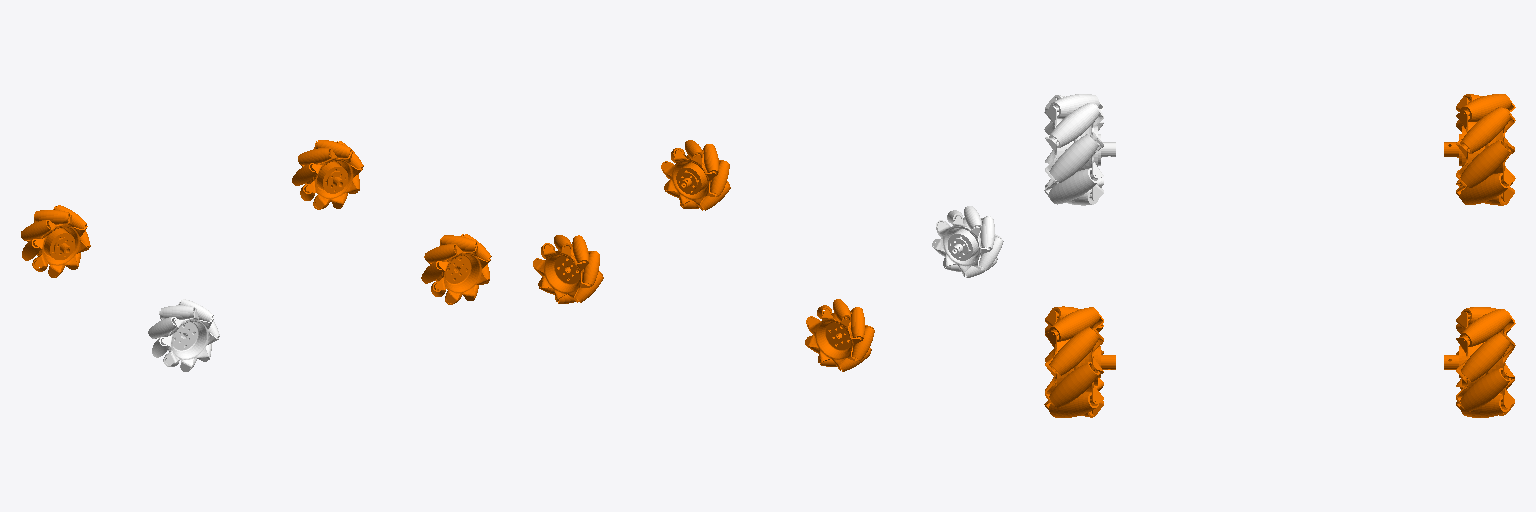
robot.urdf — mecanum_car_model:
<?xml version="1.0" encoding="utf-8"?>
<!-- This URDF was automatically created by SolidWorks to URDF Exporter! Originally created by Stephen Brawner (brawner@gmail.com)
     Commit Version: 1.6.1-15-g882169e-dirty  Build Version: 1.6.9772.27582
     For more information, please see http://wiki.ros.org/sw_urdf_exporter -->
<robot
  name="mecanum_car_model">
  <link
    name="cad_base_link">
    <inertial>
      <origin
        xyz="-0.00617548796968703 2.14769852919378E-07 0.0309079670235533"
        rpy="0 0 0" />
      <mass
        value="0.87462862212344" />
      <inertia
        ixx="0.00121174902969862"
        ixy="-1.37532960808209E-09"
        ixz="7.51707146549115E-08"
        iyy="0.00150200636211398"
        iyz="-1.90825620386568E-09"
        izz="0.00262520240536681" />
    </inertial>
    <visual>
      <origin
        xyz="0 0 0"
        rpy="0 0 0" />
      <geometry>
        <mesh
          filename="package://mecanum_car_model/meshes/base_link.STL" />
      </geometry>
      <material
        name="">
        <color
          rgba="0.752941176470588 0.752941176470588 0.752941176470588 1" />
      </material>
    </visual>
    <collision>
      <origin
        xyz="0 0 0"
        rpy="0 0 0" />
      <geometry>
        <mesh
          filename="package://mecanum_car_model/meshes/base_link.STL" />
      </geometry>
    </collision>
  </link>
  <link
    name="Link1">
    <inertial>
      <origin
        xyz="-1.88014599916686E-07 -0.00203296193576138 9.78207196355996E-08"
        rpy="0 0 0" />
      <mass
        value="0.056517377222027" />
      <inertia
        ixx="6.62770031857577E-06"
        ixy="-7.11572299839219E-12"
        ixz="6.25142269994061E-11"
        iyy="8.36947024585629E-06"
        iyz="1.6261553751241E-11"
        izz="6.62775492771518E-06" />
    </inertial>
    <visual>
      <origin
        xyz="0 0 0"
        rpy="0 0 0" />
      <geometry>
        <mesh
          filename="package://mecanum_car_model/meshes/Link1.STL" />
      </geometry>
      <material
        name="">
        <color
          rgba="1 0.501960784313725 0 1" />
      </material>
    </visual>
    <collision>
      <origin
        xyz="0 0 0"
        rpy="0 0 0" />
      <geometry>
        <mesh
          filename="package://mecanum_car_model/meshes/Link1.STL" />
      </geometry>
    </collision>
  </link>
  <joint
    name="wheel_back_left"
    type="continuous">
    <origin
      xyz="0.16537 -0.1402 0.016148"
      rpy="-3.1416 0.10332 0" />
    <parent
      link="cad_base_link" />
    <child
      link="Link1" />
    <axis
      xyz="0 1 0" />
  </joint>
  <link
    name="Link2">
    <inertial>
      <origin
        xyz="-1.88016380693601E-07 -0.00203296194037358 9.78170021370683E-08"
        rpy="0 0 0" />
      <mass
        value="0.0565173772218734" />
      <inertia
        ixx="6.62770031763641E-06"
        ixy="-7.11538727292526E-12"
        ixz="6.25141790106486E-11"
        iyy="8.36947024585973E-06"
        iyz="1.62614903065577E-11"
        izz="6.6277549286727E-06" />
    </inertial>
    <visual>
      <origin
        xyz="0 0 0"
        rpy="0 0 0" />
      <geometry>
        <mesh
          filename="package://mecanum_car_model/meshes/Link2.STL" />
      </geometry>
      <material
        name="">
        <color
          rgba="1 0.501960784313725 0 1" />
      </material>
    </visual>
    <collision>
      <origin
        xyz="0 0 0"
        rpy="0 0 0" />
      <geometry>
        <mesh
          filename="package://mecanum_car_model/meshes/Link2.STL" />
      </geometry>
    </collision>
  </link>
  <joint
    name="wheel_back_right"
    type="continuous">
    <origin
      xyz="0.16537 0.1402 0.016148"
      rpy="3.1416 -0.2389 -3.1416" />
    <parent
      link="cad_base_link" />
    <child
      link="Link2" />
    <axis
      xyz="0 1 0" />
  </joint>
  <link
    name="Link3">
    <inertial>
      <origin
        xyz="-1.88014504493017E-07 -0.00203296154348653 9.7821514832841E-08"
        rpy="0 0 0" />
      <mass
        value="0.0565173772360903" />
      <inertia
        ixx="6.62770031533193E-06"
        ixy="-7.11616974981988E-12"
        ixz="6.25122984420751E-11"
        iyy="8.36947024630998E-06"
        iyz="1.62609436783801E-11"
        izz="6.62775492351999E-06" />
    </inertial>
    <visual>
      <origin
        xyz="0 0 0"
        rpy="0 0 0" />
      <geometry>
        <mesh
          filename="package://mecanum_car_model/meshes/Link3.STL" />
      </geometry>
      <material
        name="">
        <color
          rgba="1 0.501960784313725 0 1" />
      </material>
    </visual>
    <collision>
      <origin
        xyz="0 0 0"
        rpy="0 0 0" />
      <geometry>
        <mesh
          filename="package://mecanum_car_model/meshes/Link3.STL" />
      </geometry>
    </collision>
  </link>
  <joint
    name="wheel_front_right"
    type="continuous">
    <origin
      xyz="-0.17778 0.1402 0.016148"
      rpy="3.1416 0.10332 3.1416" />
    <parent
      link="cad_base_link" />
    <child
      link="Link3" />
    <axis
      xyz="0 1 0" />
  </joint>
  <link
    name="Link4">
    <inertial>
      <origin
        xyz="-1.64656654075279E-07 0.0141670385235782 -1.33437571325778E-07"
        rpy="0 0 0" />
      <mass
        value="0.056517377224795" />
      <inertia
        ixx="6.62770053573972E-06"
        ixy="-1.7749801847232E-11"
        ixz="-6.26119474138825E-11"
        iyy="8.3694702419069E-06"
        iyz="-4.34490719214261E-14"
        izz="6.62775469772777E-06" />
    </inertial>
    <visual>
      <origin
        xyz="0 0 0"
        rpy="0 0 0" />
      <geometry>
        <mesh
          filename="package://mecanum_car_model/meshes/Link4.STL" />
      </geometry>
      <material
        name="">
        <color
          rgba="1 1 1 1" />
      </material>
    </visual>
    <collision>
      <origin
        xyz="0 0 0"
        rpy="0 0 0" />
      <geometry>
        <mesh
          filename="package://mecanum_car_model/meshes/Link4.STL" />
      </geometry>
    </collision>
  </link>
  <joint
    name="wheel_front_left"
    type="continuous">
    <origin
      xyz="-0.17778 -0.124 0.016148"
      rpy="3.1416 -1.3997 0" />
    <parent
      link="cad_base_link" />
    <child
      link="Link4" />
    <axis
      xyz="0 1 0" />
  </joint>
</robot>

--- Render facts (derived) ---
Views: 3 orthographic renders of the robot side by side, from view 1: azimuth 30°, elevation 25°; view 2: azimuth 150°, elevation 25°; view 3: azimuth 270°, elevation 25°.
Robot: mecanum_car_model — 5 links, 4 joints (4 continuous); root link cad_base_link; default pose: every joint at zero.
Links seen in each view (by area): view 1: Link1, Link2, Link4, Link3; view 2: Link3, Link1, Link4, Link2; view 3: Link1, Link4, Link3, Link2.
Link boxes in pixels (box(x1,y1,x2,y2)): Link1: box(421, 234, 491, 304); Link2: box(292, 140, 363, 209); Link4: box(148, 299, 219, 371); Link3: box(21, 205, 90, 277); Link3: box(805, 299, 874, 371); Link1: box(661, 140, 730, 210); Link4: box(932, 206, 1003, 277); Link2: box(533, 235, 603, 303); Link1: box(1044, 306, 1115, 417); Link4: box(1044, 94, 1115, 205); Link3: box(1444, 94, 1515, 205); Link2: box(1444, 307, 1515, 417).
Size in the robot's own frame: 0.4194 by 0.3212 by 0.0762 metres.
4 mesh visuals loaded from 5 distinct referenced files (4 binary STL); not drawn: 1 (reference not matched to a file when rendering).
